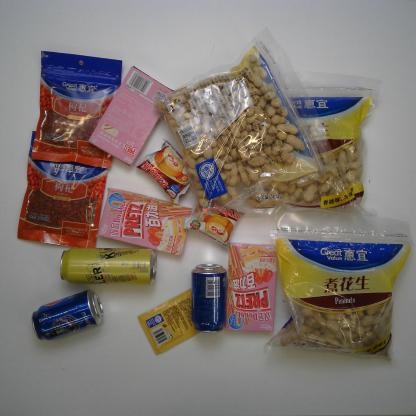Alcohol: (56, 246, 158, 286)
Dessert: (86, 62, 179, 168), (93, 184, 194, 260), (220, 238, 283, 337), (134, 140, 201, 204), (182, 196, 244, 248)
Dried Food: (152, 32, 341, 215), (266, 203, 414, 361), (245, 78, 381, 218)
Dried Fruit: (29, 49, 128, 171), (13, 131, 112, 251)
Drink: (28, 288, 106, 344), (190, 262, 230, 334)
Seasoner: (136, 282, 206, 359)
